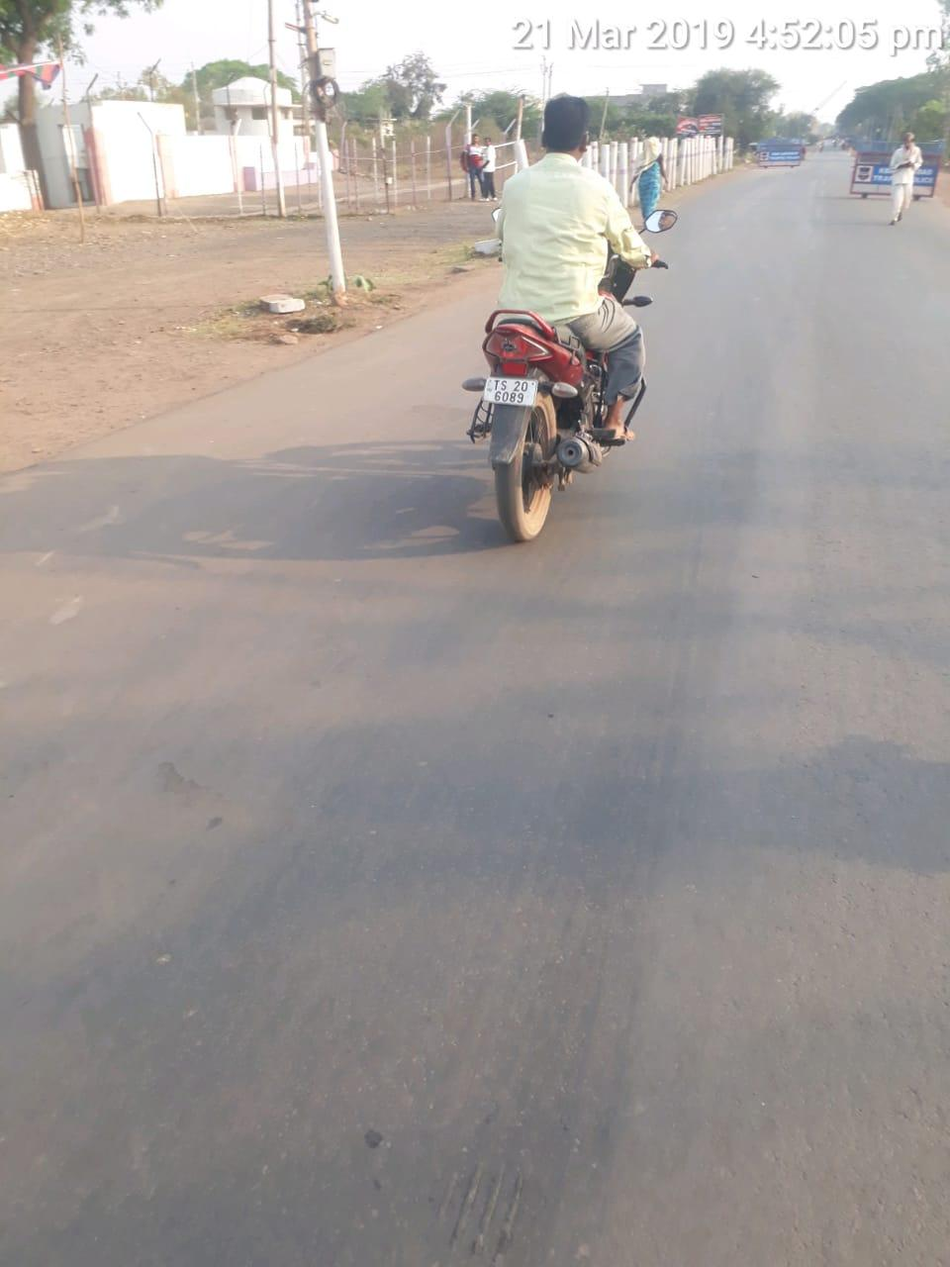plate: (480, 373, 542, 411)
